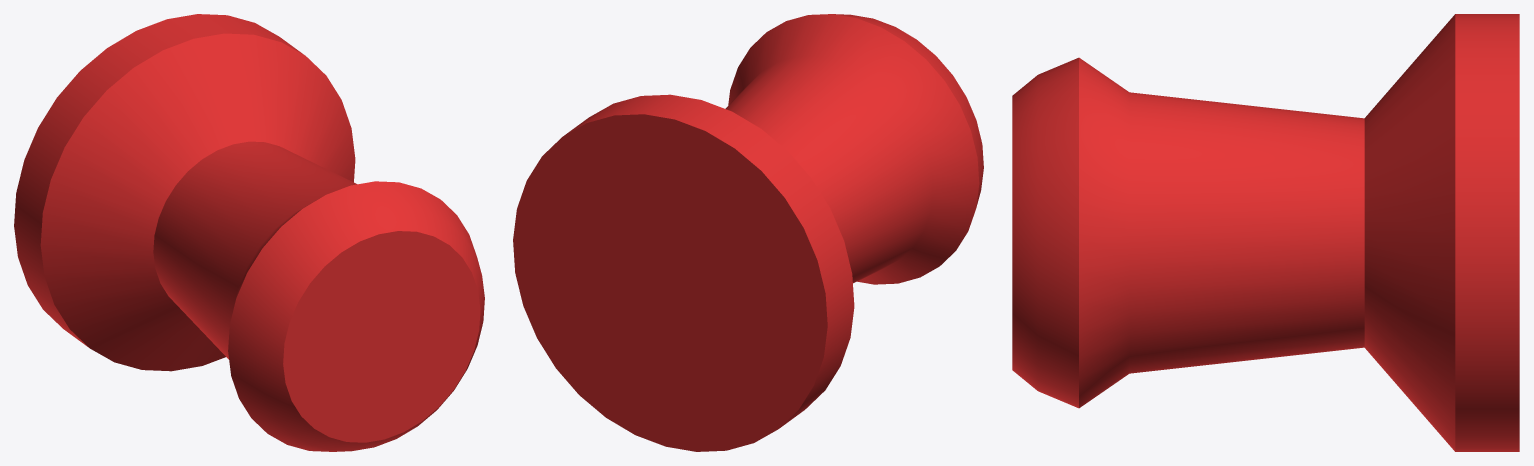
File: pin.fbx
3 renders of one model, left to right at view 1: azimuth 30°, elevation 25°; view 2: azimuth 150°, elevation 25°; view 3: azimuth 270°, elevation 25°, orthographic. The views are drawn at different scales.
Visible parts, largest first — view 1: Cylinder.003; view 2: Cylinder.003; view 3: Cylinder.003.
Boxes of the visible parts, box(x1,y1,x2,y2) form: Cylinder.003: box(14, 14, 484, 451); Cylinder.003: box(513, 14, 983, 451); Cylinder.003: box(1012, 14, 1519, 451).
Size of the model in its own units: 4.1 by 4.1 by 4.74.
